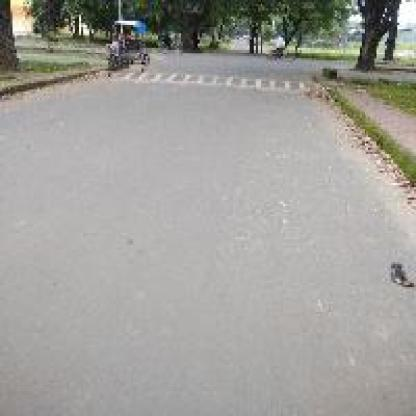Speed Bump: (146, 66, 310, 94)
